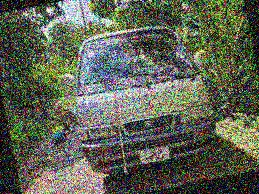van: (43, 15, 228, 186)
